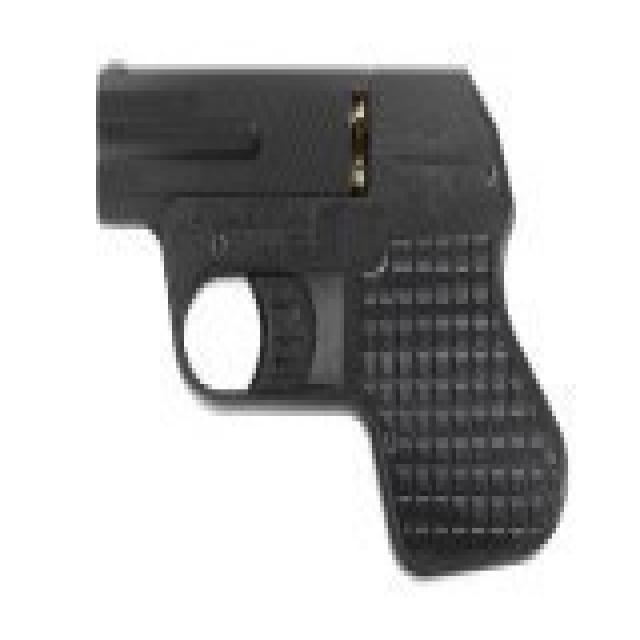Gun: (72, 30, 581, 570)
